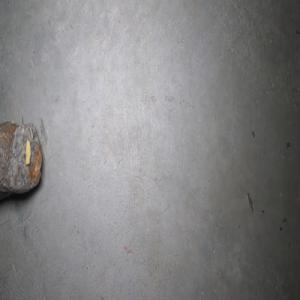Rock: (0, 115, 42, 200)
